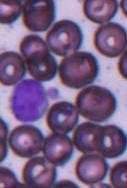M: (8, 77, 47, 123)
